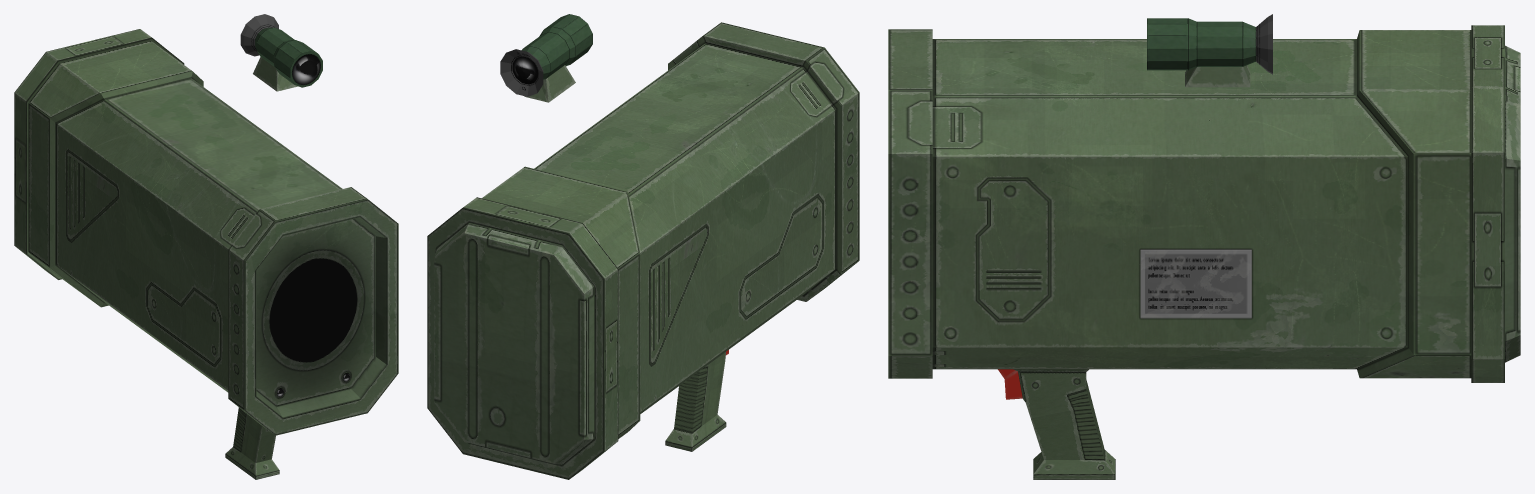
The model's file is rocketlauncher.obj.
The picture shows the model from 3 angles, left to right: view 1: azimuth 30°, elevation 25°; view 2: azimuth 150°, elevation 25°; view 3: azimuth 270°, elevation 25°; orthographic projection. The views are drawn at different scales.
Visible parts, largest first — view 1: Mesh_Launcher_Cylinder, Mesh.001_Scope_Cylinder.001; view 2: Mesh_Launcher_Cylinder, Mesh.001_Scope_Cylinder.001; view 3: Mesh_Launcher_Cylinder, Mesh.001_Scope_Cylinder.001.
Part boxes in pixels (x1,y1,x2,y2): Mesh_Launcher_Cylinder: (14, 29, 398, 479); Mesh.001_Scope_Cylinder.001: (240, 14, 322, 91); Mesh_Launcher_Cylinder: (427, 22, 859, 479); Mesh.001_Scope_Cylinder.001: (500, 14, 592, 102); Mesh_Launcher_Cylinder: (888, 25, 1520, 479); Mesh.001_Scope_Cylinder.001: (1147, 14, 1272, 87).
Size of the model in its own units: 1.84 by 3.72 by 4.19.
